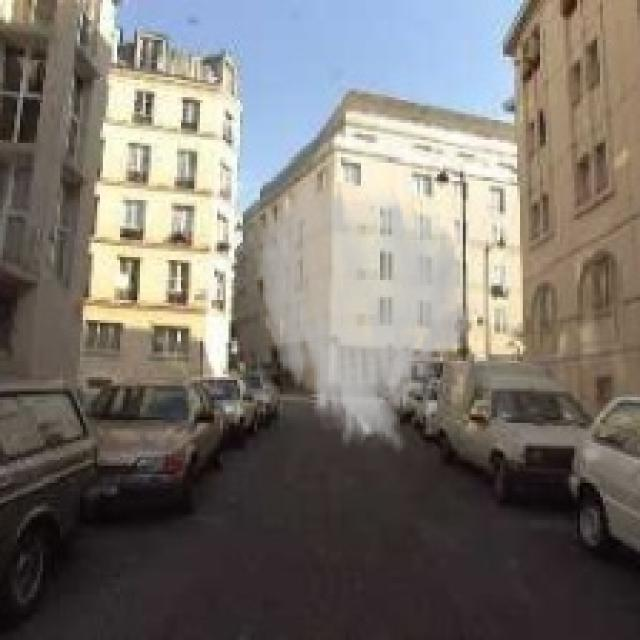smoke: (255, 174, 474, 457)
